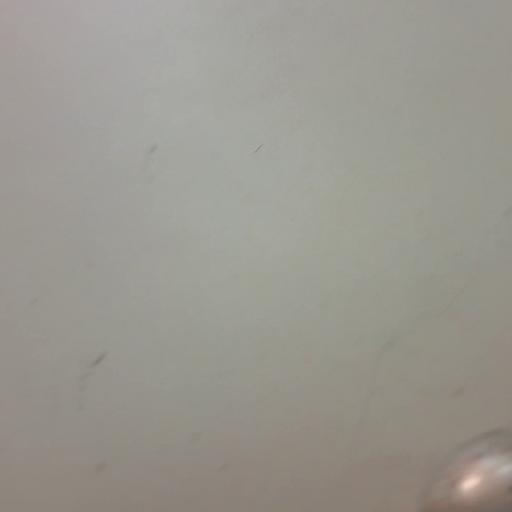alive: (419, 430, 512, 510)
